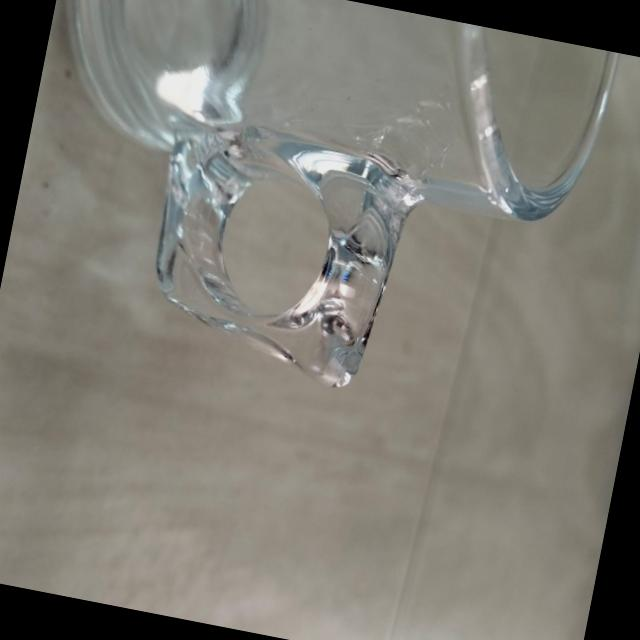glass-VX4N: (0, 0, 624, 427)
